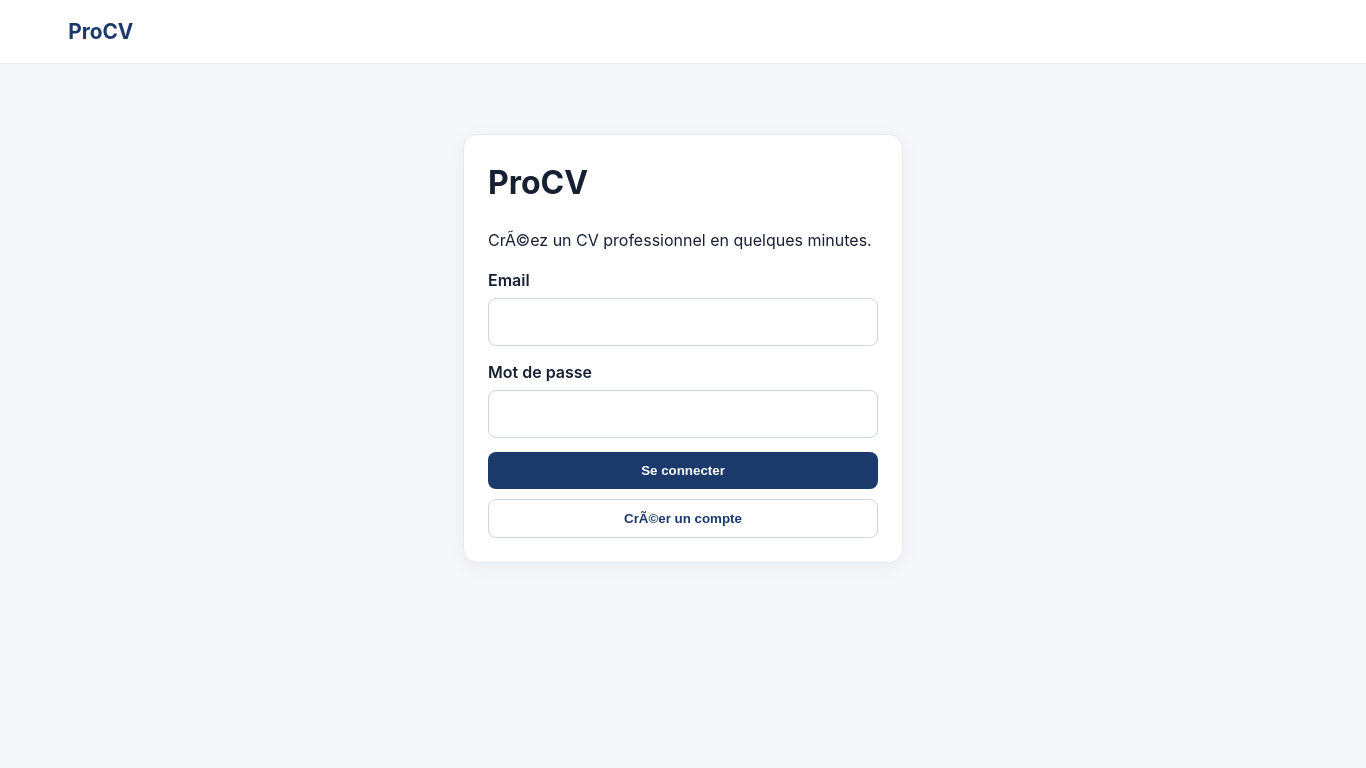
Test: ProCV - authentification › affiche une erreur lorsque la connexion échoue
Step 1. Type "wrong@procv.com" into the field labelled "Email" → (683, 322), box [488,298,878,346]
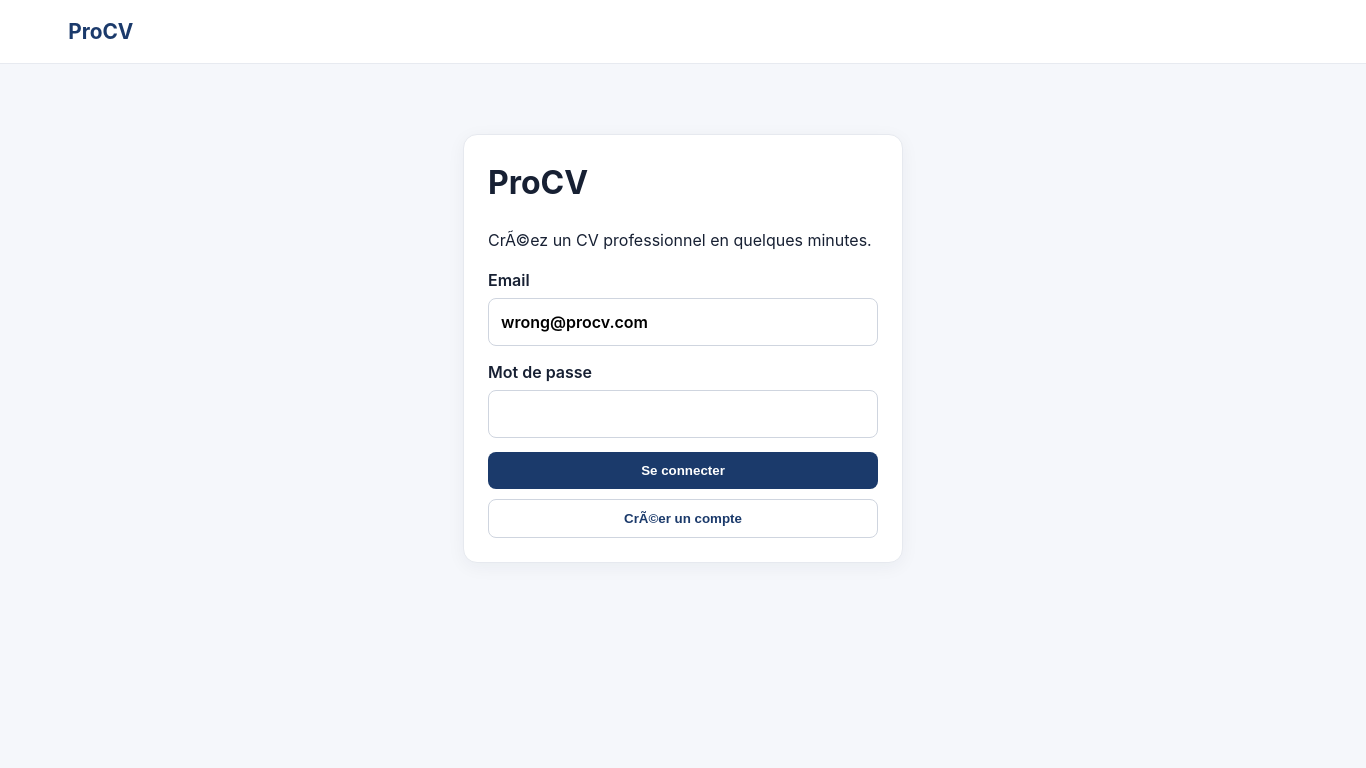
Step 2. Type "WrongPassword123!" into the password field labelled "Mot de passe" → (683, 414), box [488,390,878,438]
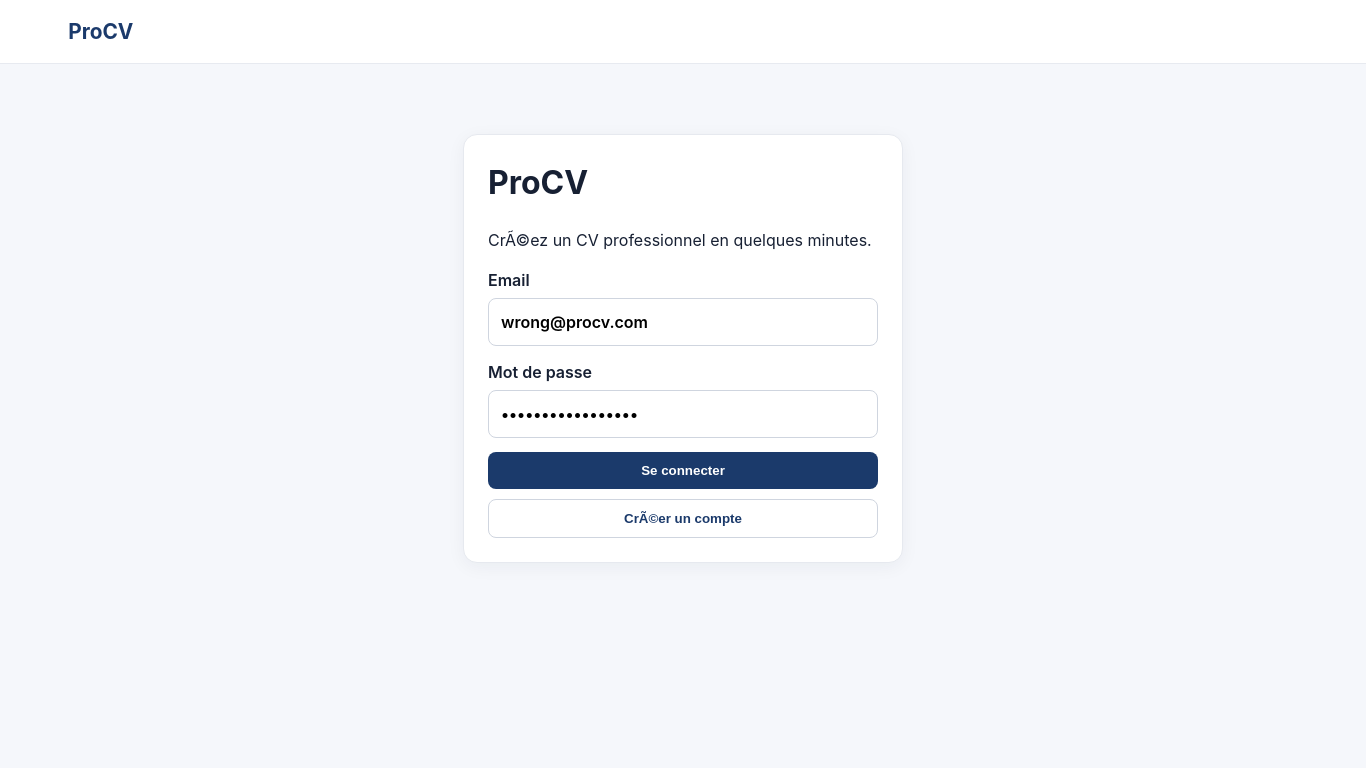
Step 3. Click the button "Se connecter" → (683, 471), box [488,452,878,489]
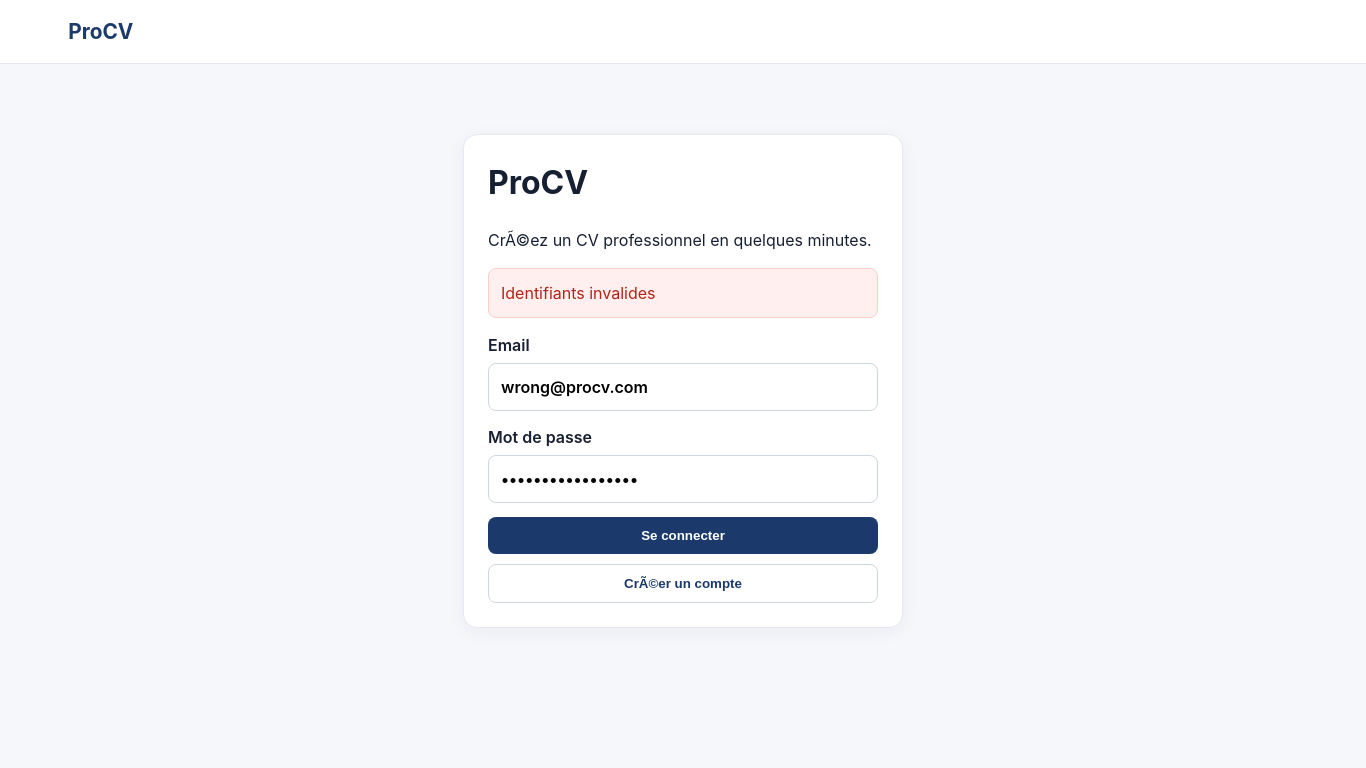
Now the text "Identifiants invalides" is shown, box [488,268,878,318]
